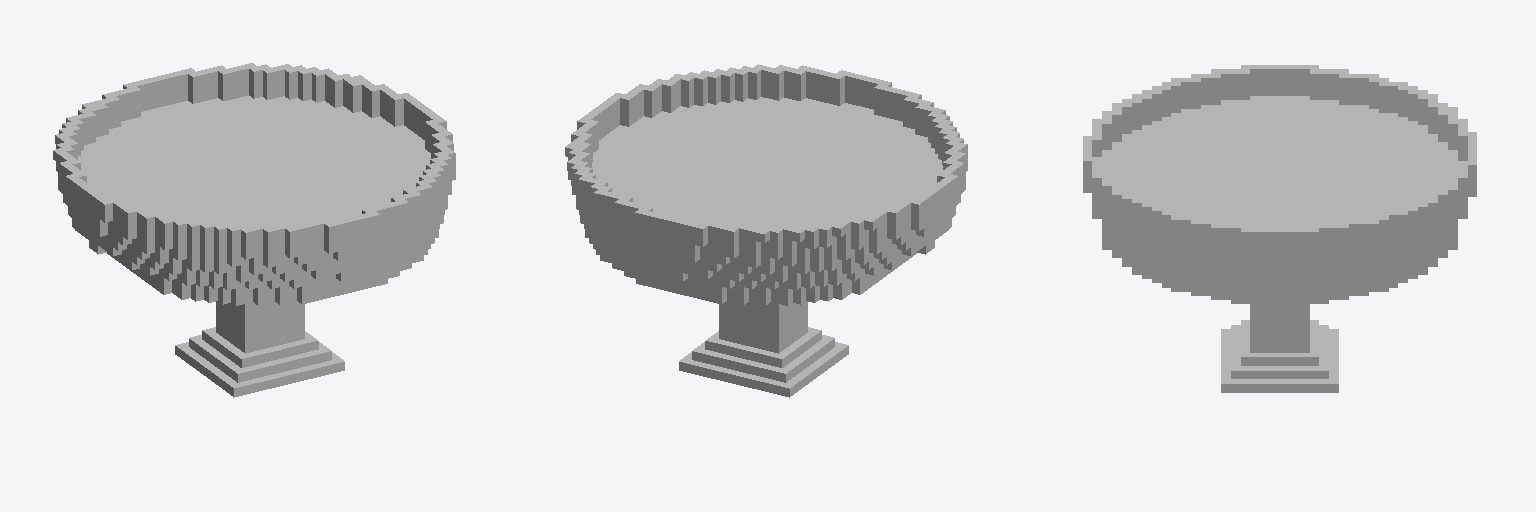
The model's file is fountain-0.obj.
3 views of the same model, side by side, from view 1: azimuth 30°, elevation 25°; view 2: azimuth 150°, elevation 25°; view 3: azimuth 270°, elevation 25° (orthographic).
Parts seen in each view (by area): view 1: object 1; view 2: object 1; view 3: object 1.
Boxes of the visible parts, <box> form: object 1: <box>53,63,455,397</box>; object 1: <box>565,64,967,397</box>; object 1: <box>1083,65,1476,392</box>.
Bounding box in the file's own units: 4 × 2.4 × 4.